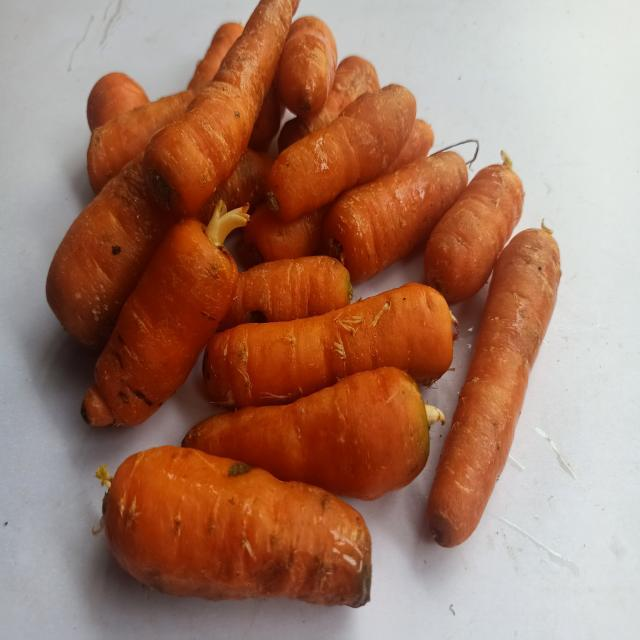Carrot: (103, 447, 372, 608), (427, 228, 562, 547), (142, 0, 299, 216), (181, 367, 430, 501), (203, 283, 454, 407), (94, 219, 238, 426), (45, 155, 177, 349), (267, 83, 416, 220), (323, 151, 469, 283), (424, 163, 525, 303), (86, 86, 202, 193)
